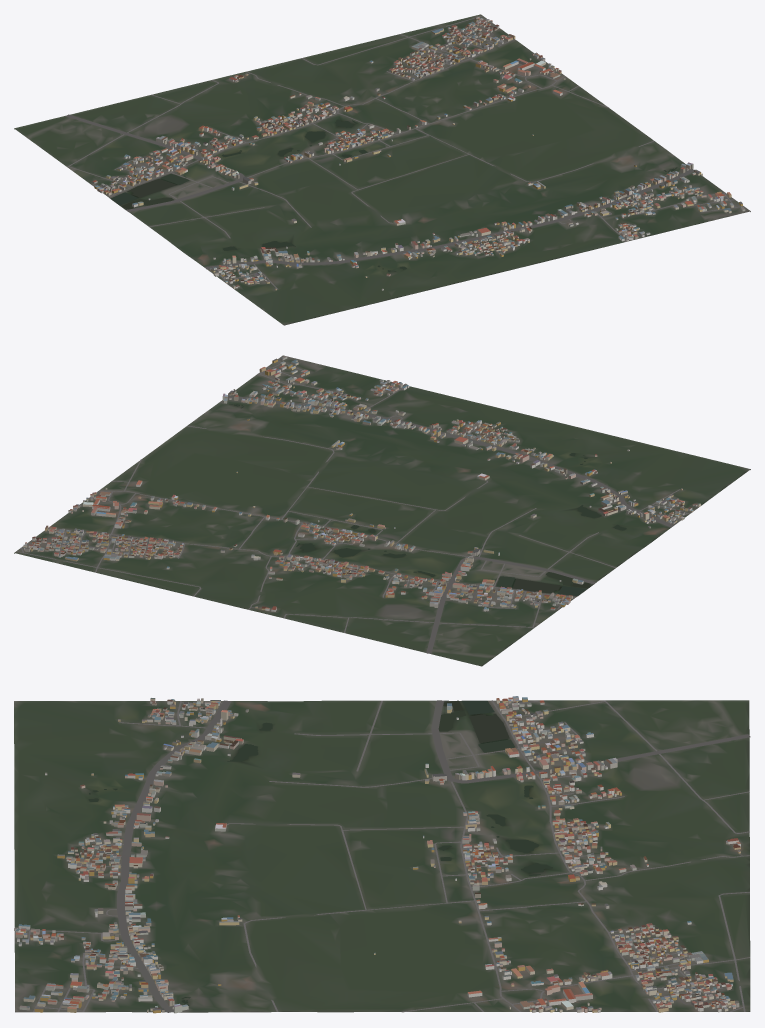
The picture shows the model from 3 angles, top to bottom: view 1: azimuth 30°, elevation 25°; view 2: azimuth 150°, elevation 25°; view 3: azimuth 270°, elevation 25°; orthographic projection. The views are drawn at different scales.
Parts seen in each view (by area): view 1: ground, buildings, roads, water; view 2: ground, buildings, roads, water; view 3: ground, buildings, roads, water.
Part boxes in pixels (x1,y1,x2,y2): ground: (14,14,750,325); buildings: (92,16,745,290); roads: (66,15,743,289); water: (111,119,677,271); ground: (14,355,750,666); buildings: (23,356,700,611); roads: (16,360,689,653); water: (229,404,626,595); ground: (14,700,750,1012); buildings: (14,696,740,1013); roads: (26,700,750,1012); water: (88,700,552,1005).
Bounding box in the file's own units: 1413 × 20.71 × 1405.
